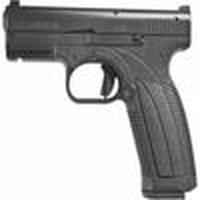gun: (1, 1, 200, 197)
